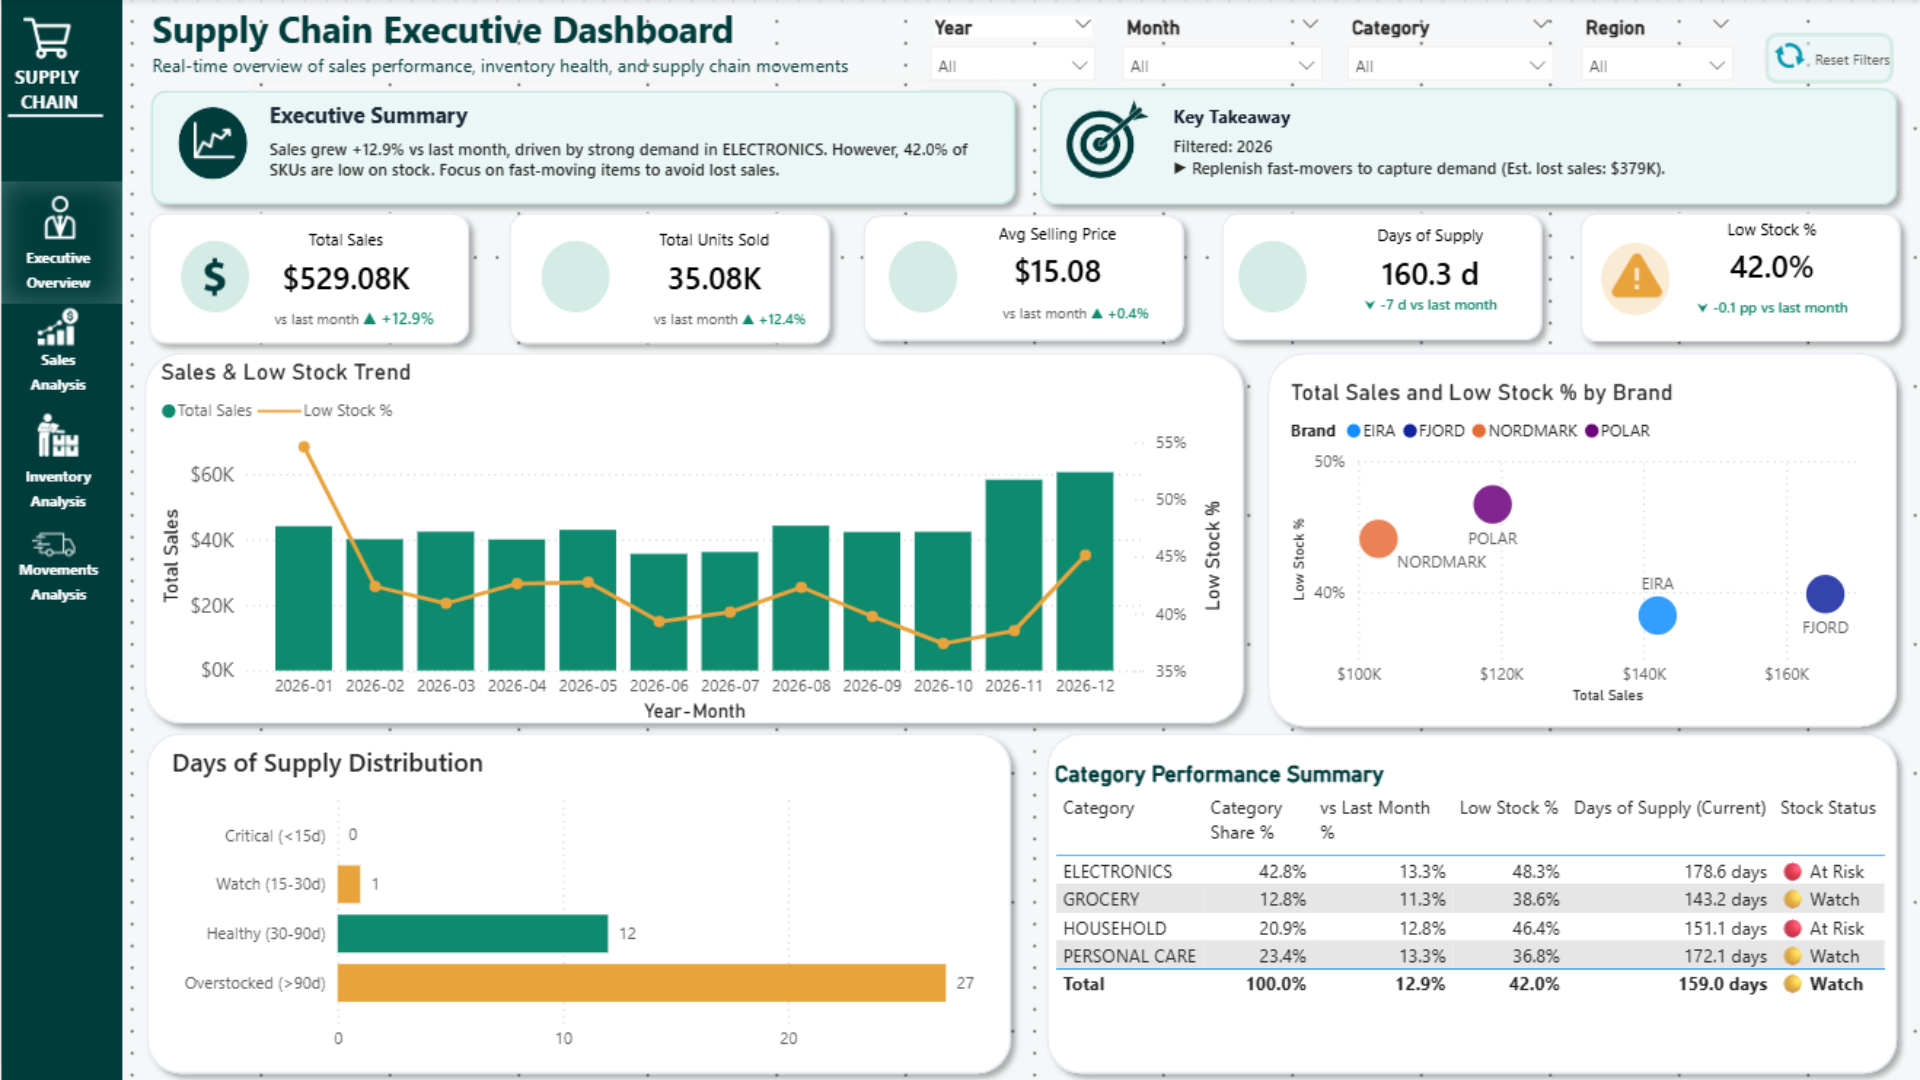

This screenshot's page, from the dashboard's own definition file:
{"tool":"powerbi","page":{"name":"Executive","canvas":[1440,810],"ordinal":0},"visuals":[{"type":"textbox","box":[107.5,0,573.8,87.5],"z":0},{"type":"shape","box":[0,0,90,810.3],"z":1000},{"type":"slicer","fields":{"Values":["dim_date.Year"]},"box":[681.2,8.8,142.8,75],"z":1000,"group":"g1"},{"type":"group","id":"g1","title":"Group 1","box":[681.2,8.8,617.5,75],"z":2000},{"type":"slicer","fields":{"Values":["dim_date.Date.Variation.Date Hierarchy.Month"]},"box":[824,8.8,168.8,75],"z":2000,"group":"g1"},{"type":"slicer","fields":{"Values":["dim_location.Region"]},"box":[1165.7,9.1,132.7,75.3],"z":3000,"group":"g1"},{"type":"textbox","box":[3.7,43.8,61.5,55.9],"z":3000},{"type":"slicer","fields":{"Values":["dim_product.Category"]},"box":[992.5,9.1,173.1,75.3],"z":4000,"group":"g1"},{"type":"image","box":[15.8,9.3,35.4,41],"z":4000},{"type":"actionButton","box":[1312.7,25.7,96,38],"z":5000},{"type":"image","box":[28,130.5,32,67],"z":6000},{"type":"shape","box":[101.2,151.2,256.2,115],"z":6000,"group":"g3"},{"type":"shape","box":[97.5,255,836.2,293.8],"z":7000},{"type":"shape","box":[769.1,539.2,650.8,271.3],"z":8000},{"type":"textbox","box":[4,177.5,78,46],"z":9000},{"type":"shape","box":[933.8,255,486.2,296.2],"z":10000},{"type":"shape","box":[100,538.8,661.2,271.2],"z":11000},{"type":"shape","box":[102.5,60.6,661.2,102.5],"z":12000,"group":"g2"},{"type":"shape","box":[4.7,66.2,70.8,41.9],"z":12000},{"type":"shape","box":[370,151.2,256.2,115],"z":13000,"group":"g3"},{"type":"image","box":[26,289.5,32,72],"z":13000},{"type":"shape","box":[900,151.2,256.2,112.5],"z":14000,"group":"g3"},{"type":"textbox","box":[4,254.5,78,57],"z":14000},{"type":"shape","box":[765,58.8,655.6,104.4],"z":15000,"group":"g2"},{"type":"shape","box":[132.5,85,51.2,52.5],"z":15000},{"type":"shape","box":[1166.2,151.2,256.2,113.8],"z":15000,"group":"g3"},{"type":"shape","box":[633.7,152.4,256.2,111.2],"z":16000,"group":"g3"},{"type":"lineStackedColumnComboChart","title":"Sales & Low Stock Trend","fields":{"Category":["dim_date.Year-Month"],"Y":["_Measures.Total Sales"],"Y2":["_Measures.Low Stock %"]},"box":[118.8,268.8,790,270],"z":16000},{"type":"cardVisual","fields":{"Data":["_Measures.Key Takeaway"]},"box":[861.3,64.4,561.2,87.5],"z":17000,"group":"g2"},{"type":"image","box":[26,200.5,32,89],"z":17000},{"type":"cardVisual","title":"Total Sales","fields":{"Data":["_Measures.Total Sales"]},"box":[173.4,161.2,165,105],"z":18000,"group":"g4"},{"type":"scatterChart","fields":{"Y":["_Measures.Low Stock %"],"Series":["dim_product.Brand"],"X":["_Measures.Total Sales"]},"box":[954.4,283.5,448.7,246.7],"z":18000},{"type":"tableEx","title":"Category Performance Summary","fields":{"Values":["dim_product.Category","_Measures.Category Share %","_Measures.vs Last Month %","_Measures.Low Stock %","_Measures.Days of Supply (Current)","_Measures.Stock Status"]},"box":[778.8,567.5,632.5,223.8],"z":19000},{"type":"cardVisual","title":"Total Sales","fields":{"Data":["_Measures.Avg Selling Price"]},"box":[700.9,157.5,170,105],"z":20000,"group":"g4"},{"type":"textbox","box":[4,340.5,78,56],"z":20000},{"type":"group","id":"g2","title":"Group 2","box":[102.5,58.8,1320,105],"z":21000},{"type":"cardVisual","title":"Total Sales","fields":{"Data":["_Measures.Days of Supply (Snapshot)"]},"box":[985.5,155.5,156.7,108.9],"z":21000,"group":"g4"},{"type":"group","id":"g3","title":"Group 3","box":[101.2,151.2,1321.2,115],"z":22000},{"type":"cardVisual","title":"Total Sales","fields":{"Data":["_Measures.Low Stock %"]},"box":[1232.2,153.7,170,105],"z":23000,"group":"g4"},{"type":"image","box":[22,362.5,32,88],"z":23000},{"type":"shape","box":[132.5,81.2,51.2,53.8],"z":24000},{"type":"cardVisual","title":"Total Sales","fields":{"Data":["_Measures.Total Units Sold"]},"box":[445.5,161.1,170,105.6],"z":25000,"group":"g4"},{"type":"shape","box":[134.1,181.2,51.2,53.8],"z":25000},{"type":"textbox","box":[0,409.5,85,56],"z":26000},{"type":"image","box":[1319.4,0,23.4,87.1],"z":27000},{"type":"image","box":[755,63.8,137.5,88.8],"z":28000},{"type":"image","box":[410.8,178,34.5,57.3],"z":29000},{"type":"shape","box":[402.3,180.1,51.2,53.8],"z":30000},{"type":"cardVisual","fields":{"Data":["_Measures.Executive Summary v2"]},"box":[186.3,60.6,560,88.8],"z":31000,"group":"g2"},{"type":"image","box":[656,188,61.8,39.1],"z":31000},{"type":"image","box":[913.6,186.4,66.4,41.8],"z":32000},{"type":"shape","box":[661.2,181.1,51.2,53.8],"z":33000},{"type":"image","box":[145.5,157.3,28.2,100],"z":34000},{"type":"image","box":[142.7,66.4,30.9,79.1],"z":35000},{"type":"shape","box":[921.6,181.2,51.2,53.8],"z":36000},{"type":"clusteredBarChart","title":"Days of Supply Distribution","fields":{"Category":["Stock Tier Categories.Tier"],"Y":["_Measures.SKU Count by Tier"]},"box":[122.8,555.9,615.1,235.5],"z":37000},{"type":"shape","box":[1191.4,181.4,51.4,54.3],"z":38000},{"type":"image","box":[1199.1,188.2,37.3,37.3],"z":39000},{"type":"group","id":"g4","title":"Group 5","box":[173.4,153.7,1228.8,112.9],"z":40000},{"type":"actionButton","box":[0,226,90,79],"z":41000},{"type":"actionButton","box":[0,302,90,79],"z":42000},{"type":"actionButton","box":[0,381,90,79],"z":43000},{"type":"actionButton","box":[0,136,90,91],"z":44000}]}

Visuals, with their boxes on the page's 1440x810 design canvas (x1, y1, x2, y2). These are canvas units, not pixel positions in the 1920x1080 screenshot, which may show the page scaled, cropped or inside an application window:
textbox: bbox=[108, 0, 681, 88]
shape: bbox=[0, 0, 90, 810]
slicer - dim_date.Year: bbox=[681, 9, 824, 84]
"Group 1" group: bbox=[681, 9, 1299, 84]
slicer - dim_date.Date.Variation.Date Hierarchy.Month: bbox=[824, 9, 993, 84]
slicer - dim_location.Region: bbox=[1166, 9, 1298, 84]
textbox: bbox=[4, 44, 65, 100]
slicer - dim_product.Category: bbox=[992, 9, 1166, 84]
image: bbox=[16, 9, 51, 50]
actionButton: bbox=[1313, 26, 1409, 64]
image: bbox=[28, 130, 60, 198]
shape: bbox=[101, 151, 357, 266]
shape: bbox=[98, 255, 934, 549]
shape: bbox=[769, 539, 1420, 810]
textbox: bbox=[4, 178, 82, 224]
shape: bbox=[934, 255, 1420, 551]
shape: bbox=[100, 539, 761, 810]
shape: bbox=[102, 61, 764, 163]
shape: bbox=[5, 66, 76, 108]
shape: bbox=[370, 151, 626, 266]
image: bbox=[26, 290, 58, 362]
shape: bbox=[900, 151, 1156, 264]
textbox: bbox=[4, 254, 82, 312]
shape: bbox=[765, 59, 1421, 163]
shape: bbox=[132, 85, 184, 138]
shape: bbox=[1166, 151, 1422, 265]
shape: bbox=[634, 152, 890, 264]
"Sales & Low Stock Trend" lineStackedColumnComboChart: bbox=[119, 269, 909, 539]
cardVisual - _Measures.Key Takeaway: bbox=[861, 64, 1422, 152]
image: bbox=[26, 200, 58, 290]
"Total Sales" cardVisual: bbox=[173, 161, 338, 266]
scatterChart - _Measures.Low Stock % x dim_product.Brand: bbox=[954, 284, 1403, 530]
"Category Performance Summary" tableEx: bbox=[779, 568, 1411, 791]
"Total Sales" cardVisual: bbox=[701, 158, 871, 262]
textbox: bbox=[4, 340, 82, 396]
"Group 2" group: bbox=[102, 59, 1422, 164]
"Total Sales" cardVisual: bbox=[986, 156, 1142, 264]
"Group 3" group: bbox=[101, 151, 1422, 266]
"Total Sales" cardVisual: bbox=[1232, 154, 1402, 259]
image: bbox=[22, 362, 54, 450]
shape: bbox=[132, 81, 184, 135]
"Total Sales" cardVisual: bbox=[446, 161, 616, 267]
shape: bbox=[134, 181, 185, 235]
textbox: bbox=[0, 410, 85, 466]
image: bbox=[1319, 0, 1343, 87]
image: bbox=[755, 64, 892, 153]
image: bbox=[411, 178, 445, 235]
shape: bbox=[402, 180, 454, 234]
cardVisual - _Measures.Executive Summary v2: bbox=[186, 61, 746, 149]
image: bbox=[656, 188, 718, 227]
image: bbox=[914, 186, 980, 228]
shape: bbox=[661, 181, 712, 235]
image: bbox=[146, 157, 174, 257]
image: bbox=[143, 66, 174, 146]
shape: bbox=[922, 181, 973, 235]
"Days of Supply Distribution" clusteredBarChart: bbox=[123, 556, 738, 791]
shape: bbox=[1191, 181, 1243, 236]
image: bbox=[1199, 188, 1236, 226]
"Group 5" group: bbox=[173, 154, 1402, 267]
actionButton: bbox=[0, 226, 90, 305]
actionButton: bbox=[0, 302, 90, 381]
actionButton: bbox=[0, 381, 90, 460]
actionButton: bbox=[0, 136, 90, 227]
